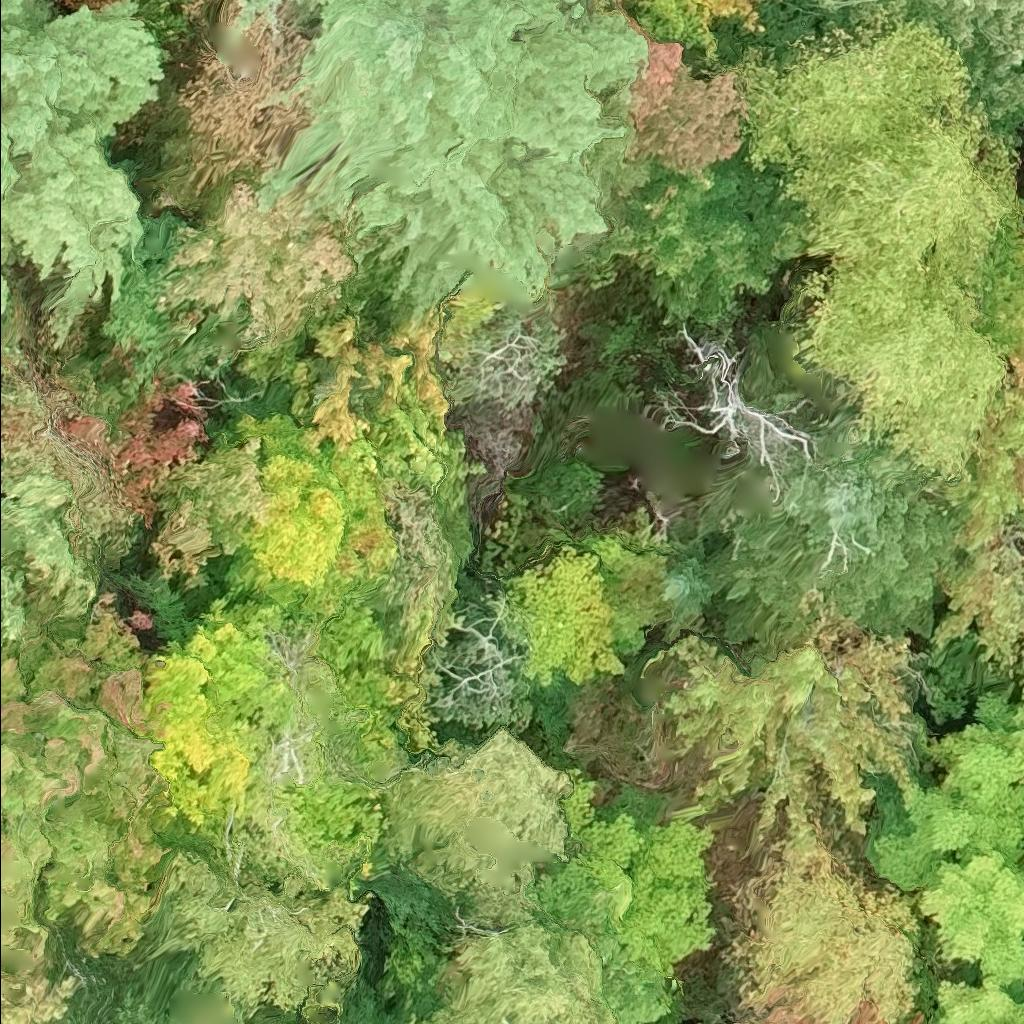crown: (740, 8, 1019, 483), (302, 0, 651, 315), (867, 684, 1023, 1023), (969, 197, 1023, 550), (241, 0, 308, 22)
